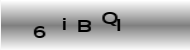6: (33, 25, 46, 39)
B: (76, 18, 92, 33)
Q: (102, 11, 118, 26)
i: (61, 17, 67, 31)
l: (116, 19, 121, 32)
